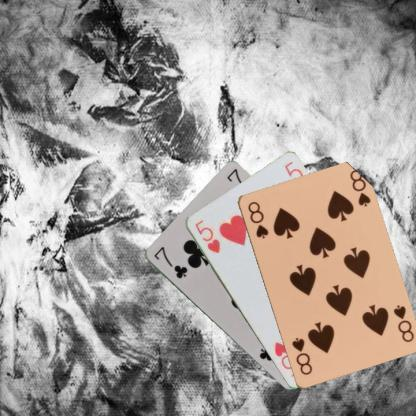5h: (192, 217, 221, 254)
7c: (151, 243, 188, 280)
8s: (244, 199, 270, 240), (390, 302, 415, 343)
